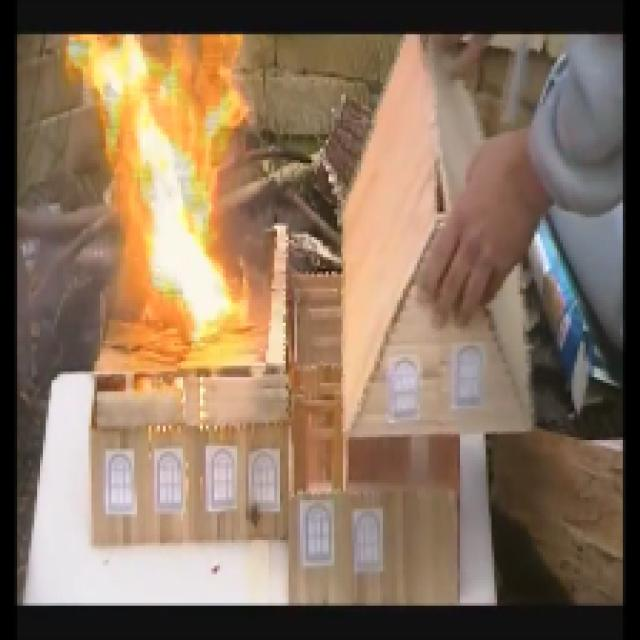fire: (75, 41, 247, 366)
